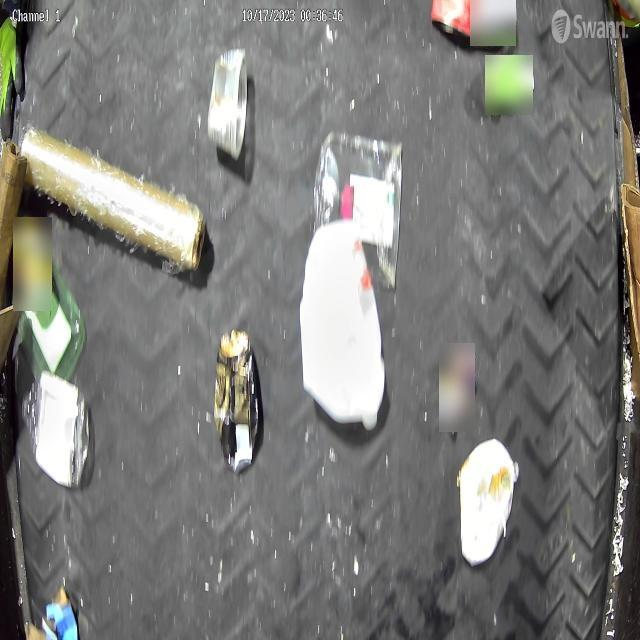milk_jug: (298, 219, 386, 431), (460, 438, 514, 566)
